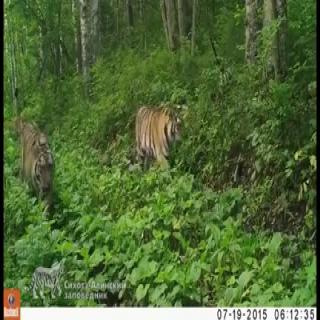Tiger: (133, 96, 184, 173), (17, 120, 56, 203)
